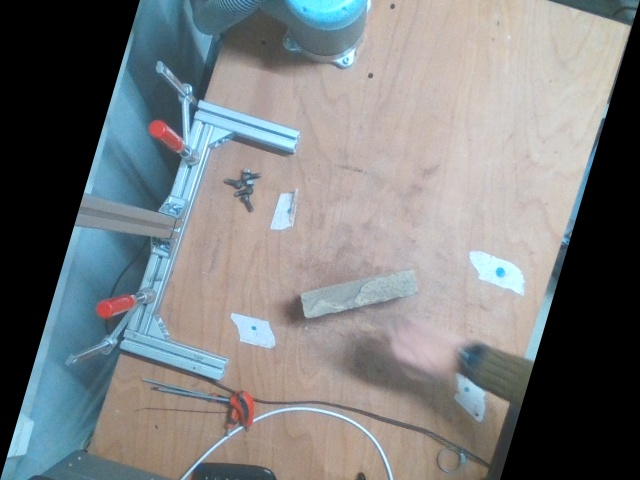brick-side: (303, 271, 415, 316)
